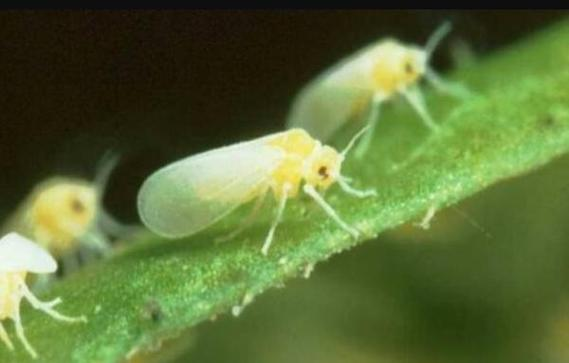Delphacidae: (135, 120, 375, 257), (281, 18, 471, 165)
